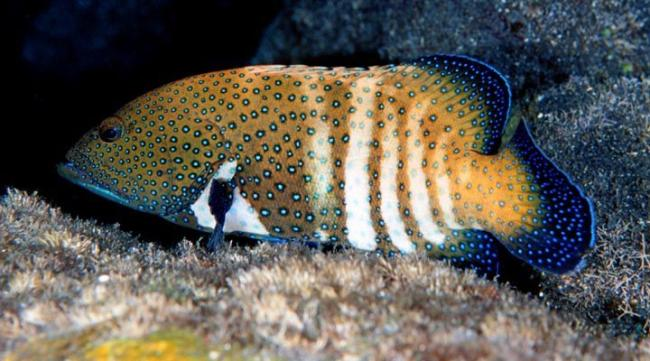fish: (60, 53, 596, 275)
